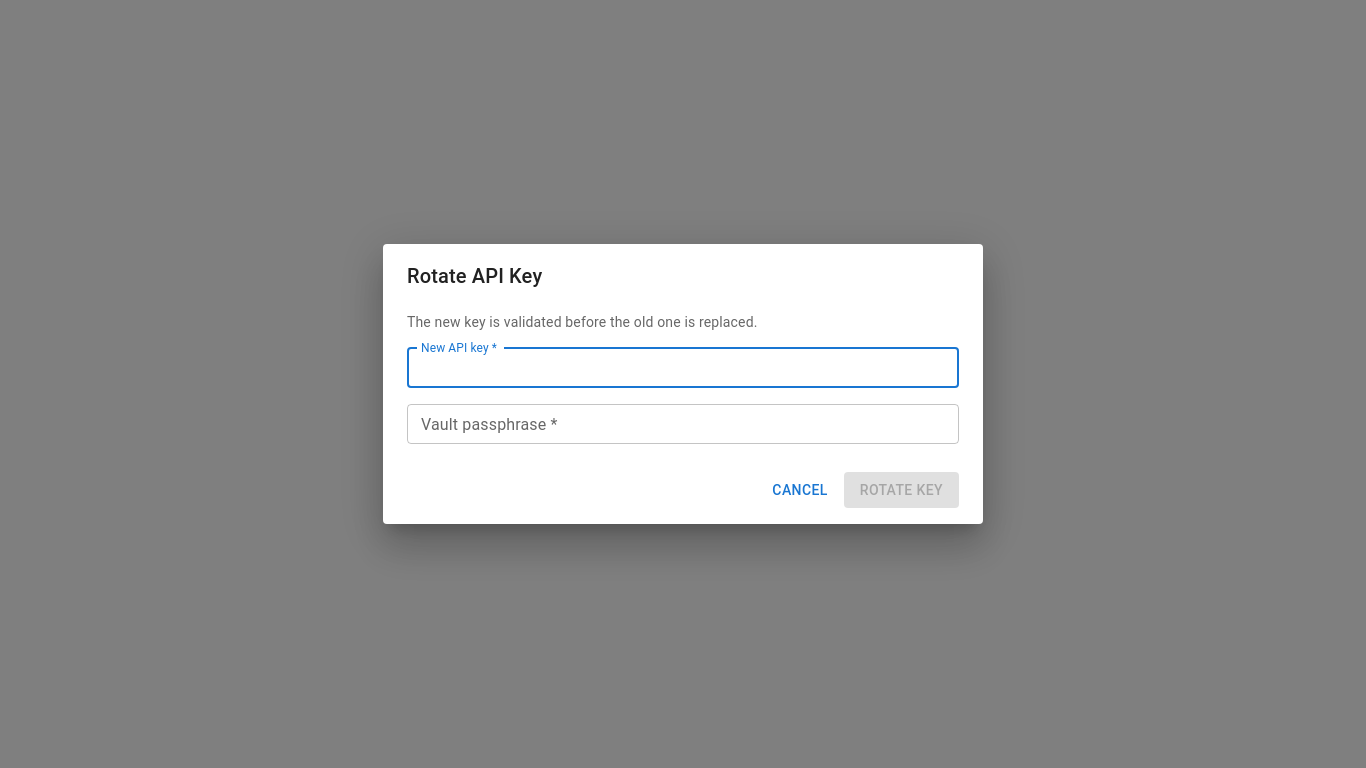
Scenario: RotateKeyDialog › a wrong passphrase keeps the old key and the dialog open
Type "sk-ant-new-key-abcd" into the password field labelled "New API key *".
click(683, 368); type("sk-ant-new-key-abcd")  # box 407,348 -> 959,388
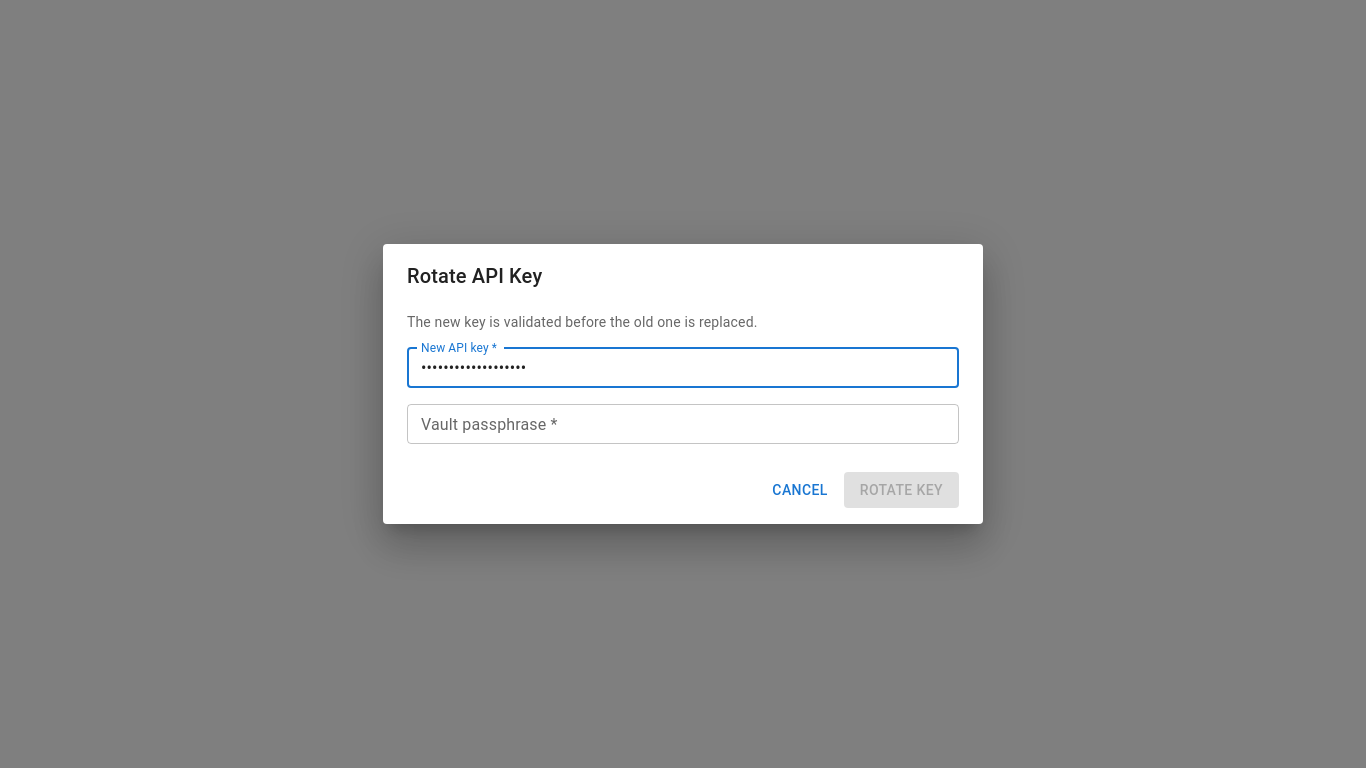
Type "not the passphrase" into the password field labelled "Vault passphrase *".
click(683, 424); type("not the passphrase")  # box 407,404 -> 959,444
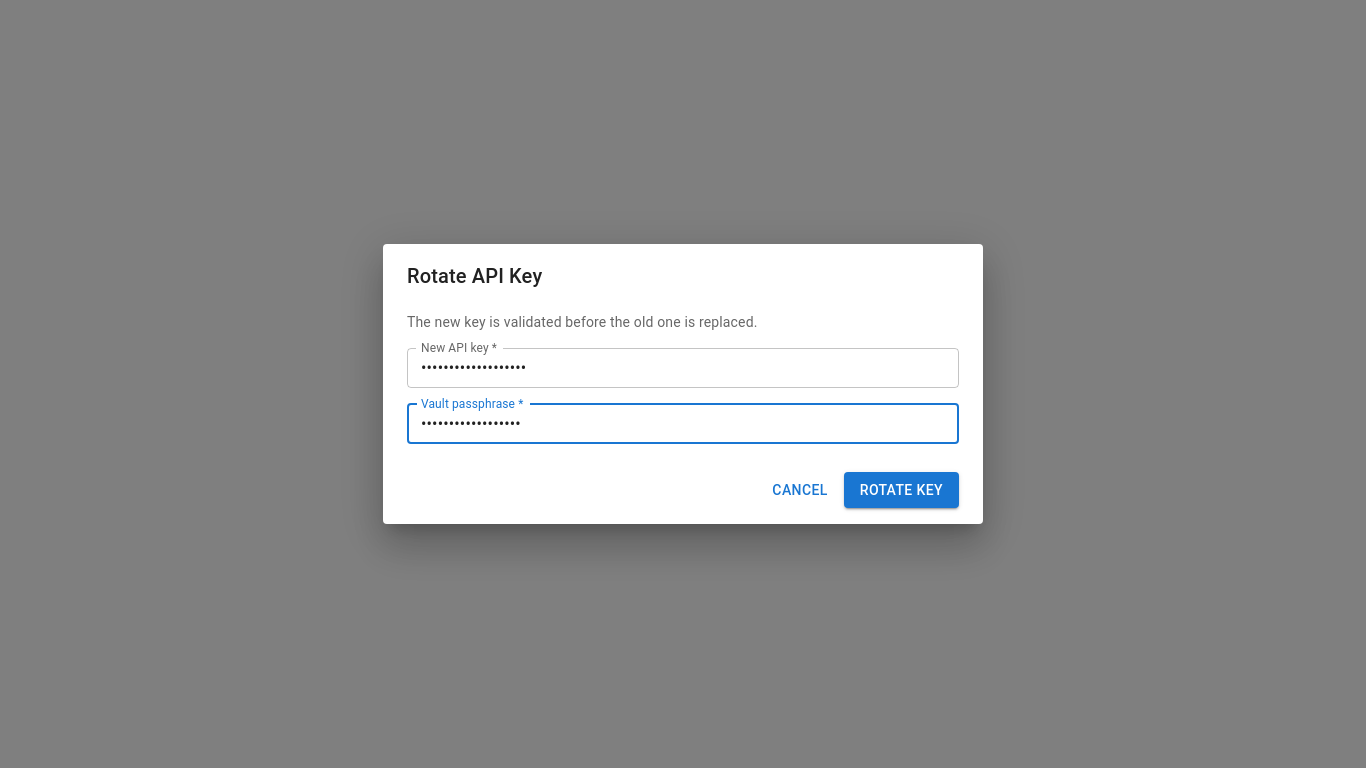
Click the button "Rotate Key".
click(901, 490)  # box 844,472 -> 959,508
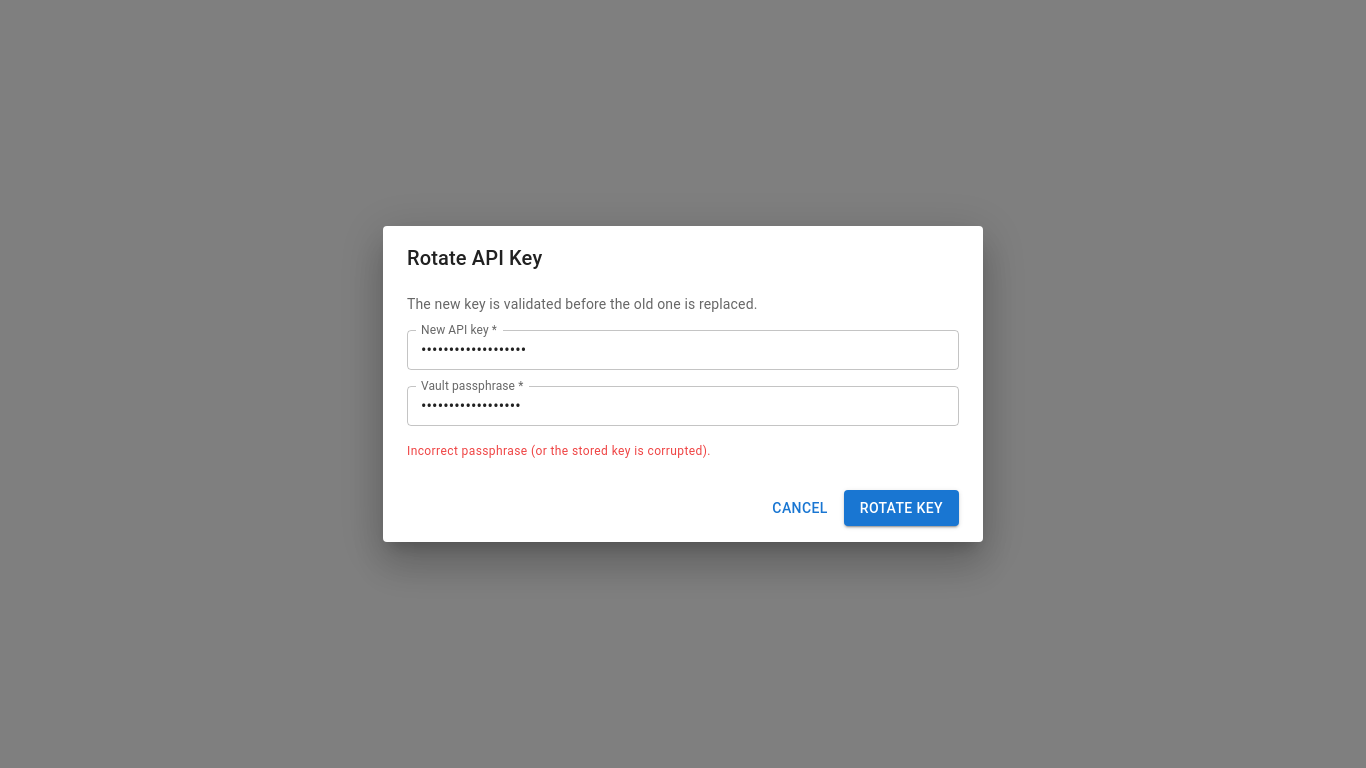
Check: the text "Incorrect passphrase (or the stored key is corrupted)." is shown, box 407,444 -> 711,458
